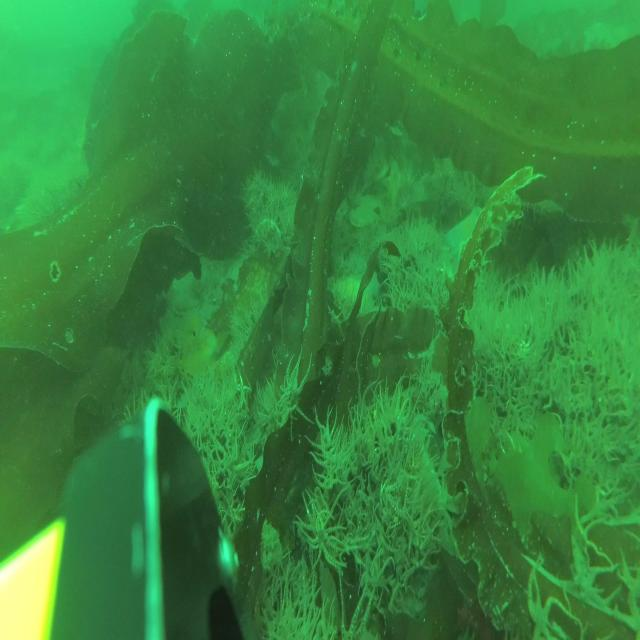starfish: (450, 205, 490, 269)
